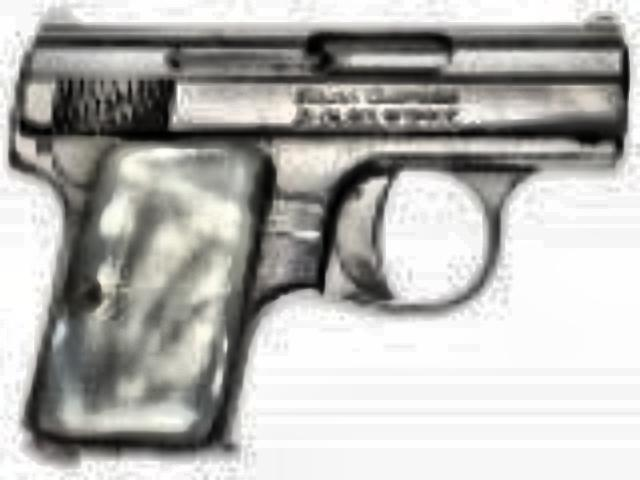pistol: (8, 8, 620, 456)
